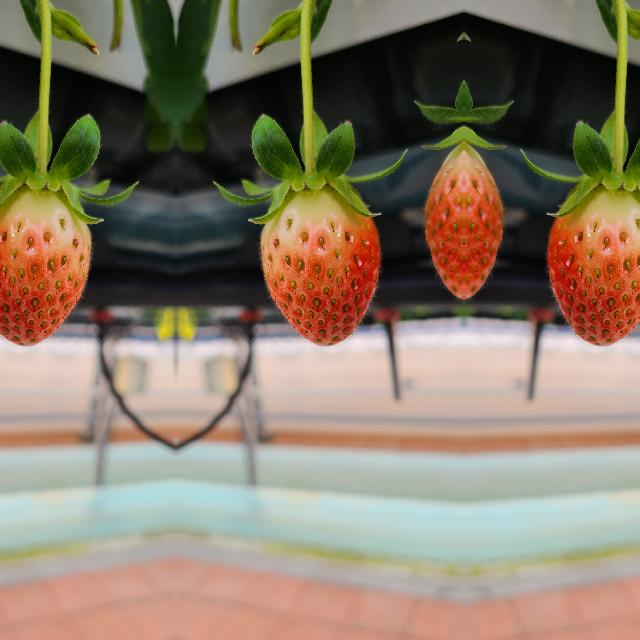Health_100: (260, 186, 378, 346), (547, 186, 640, 346), (0, 186, 90, 346)
